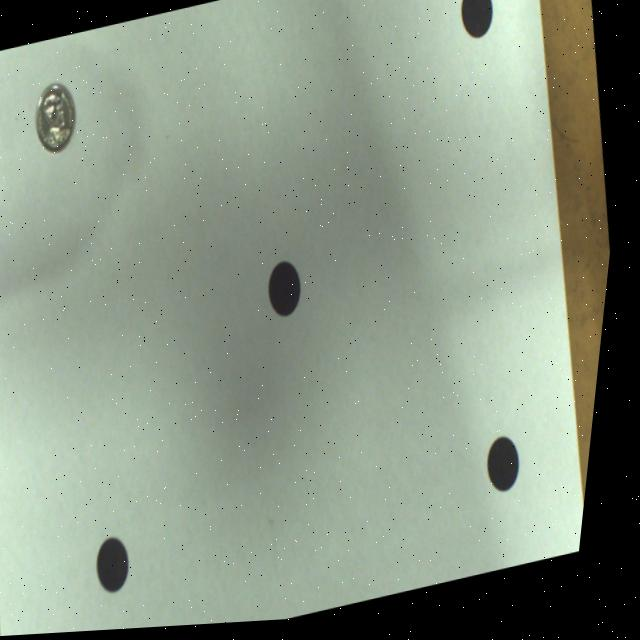head1bath: (38, 83, 77, 152)
space: (274, 264, 307, 320), (498, 443, 530, 497), (109, 540, 141, 592), (461, 0, 494, 43)
